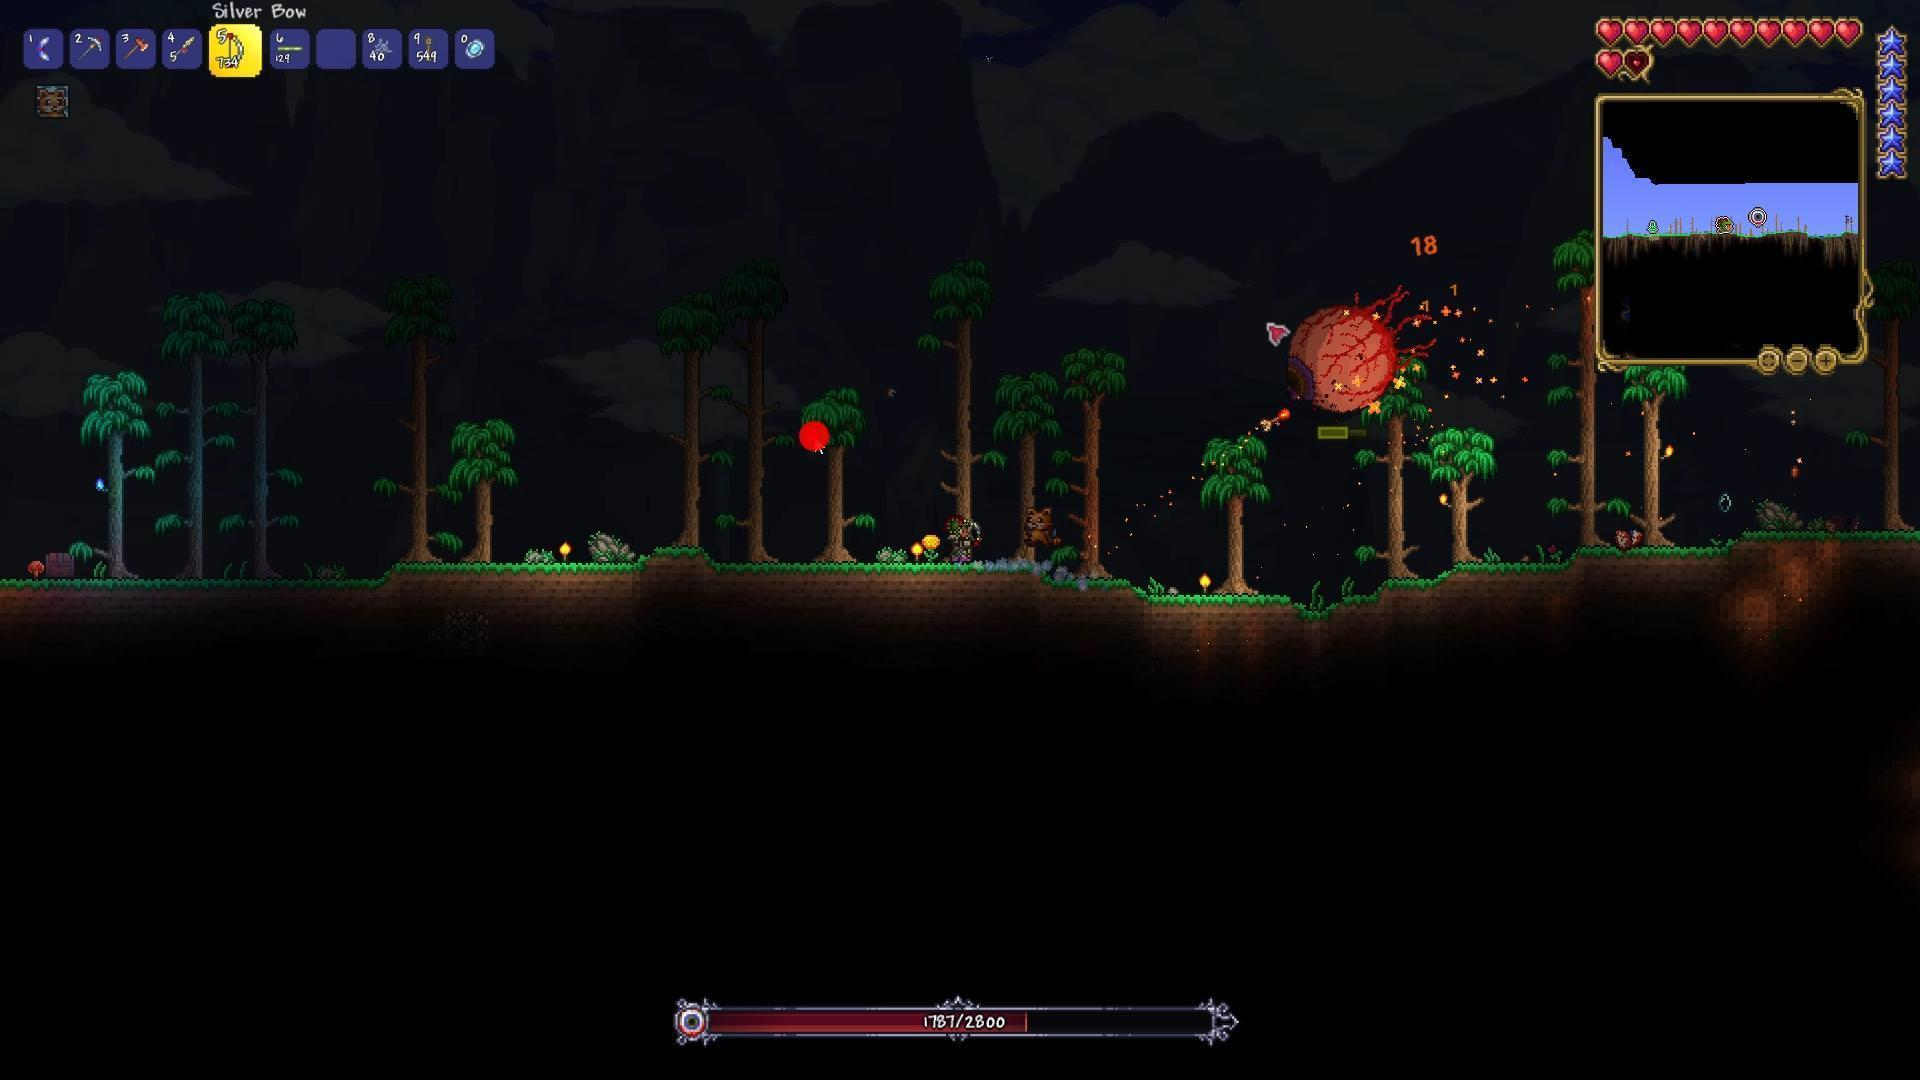axe: (119, 36, 153, 65)
chest: (36, 542, 94, 583)
cobwebI: (373, 37, 393, 55)
eyeC: (1261, 278, 1447, 442)
lens: (1710, 488, 1741, 521)
